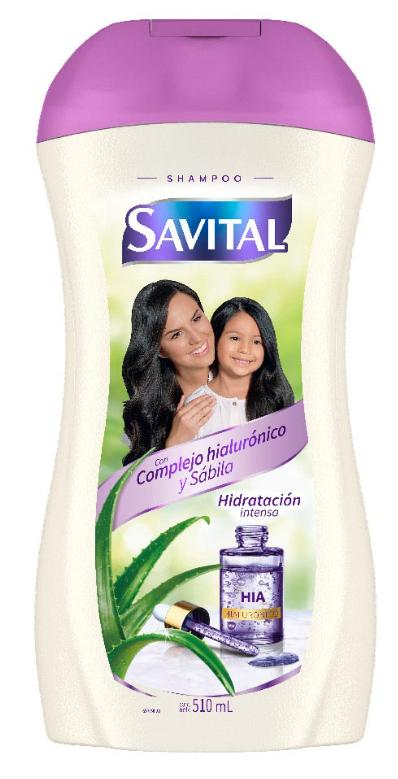brand: (115, 198, 300, 265)
net_weight: (192, 695, 234, 713)
product_name: (164, 173, 247, 187)
